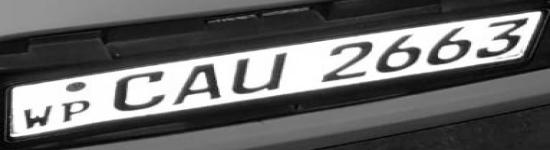2: (320, 39, 374, 83)
3: (474, 16, 532, 60)
6: (374, 32, 424, 74), (426, 25, 475, 66)
A: (171, 62, 225, 107)
C: (112, 70, 167, 112)
P: (61, 99, 92, 123)
U: (229, 50, 290, 96)
W: (20, 104, 54, 130)
